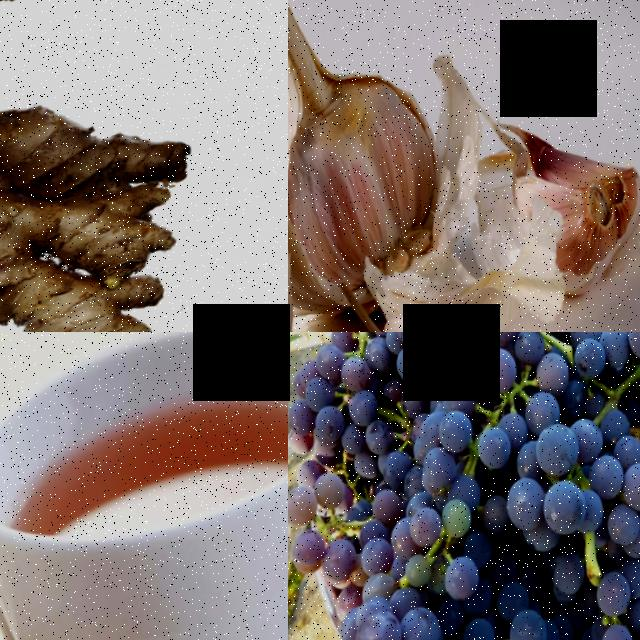garlic: (288, 5, 462, 296), (500, 114, 640, 313), (374, 291, 535, 332)
ginger: (0, 0, 260, 332)
grapes: (422, 332, 640, 608), (288, 432, 540, 640), (288, 332, 484, 485)
